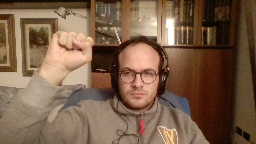Pugno: (40, 29, 96, 74)
